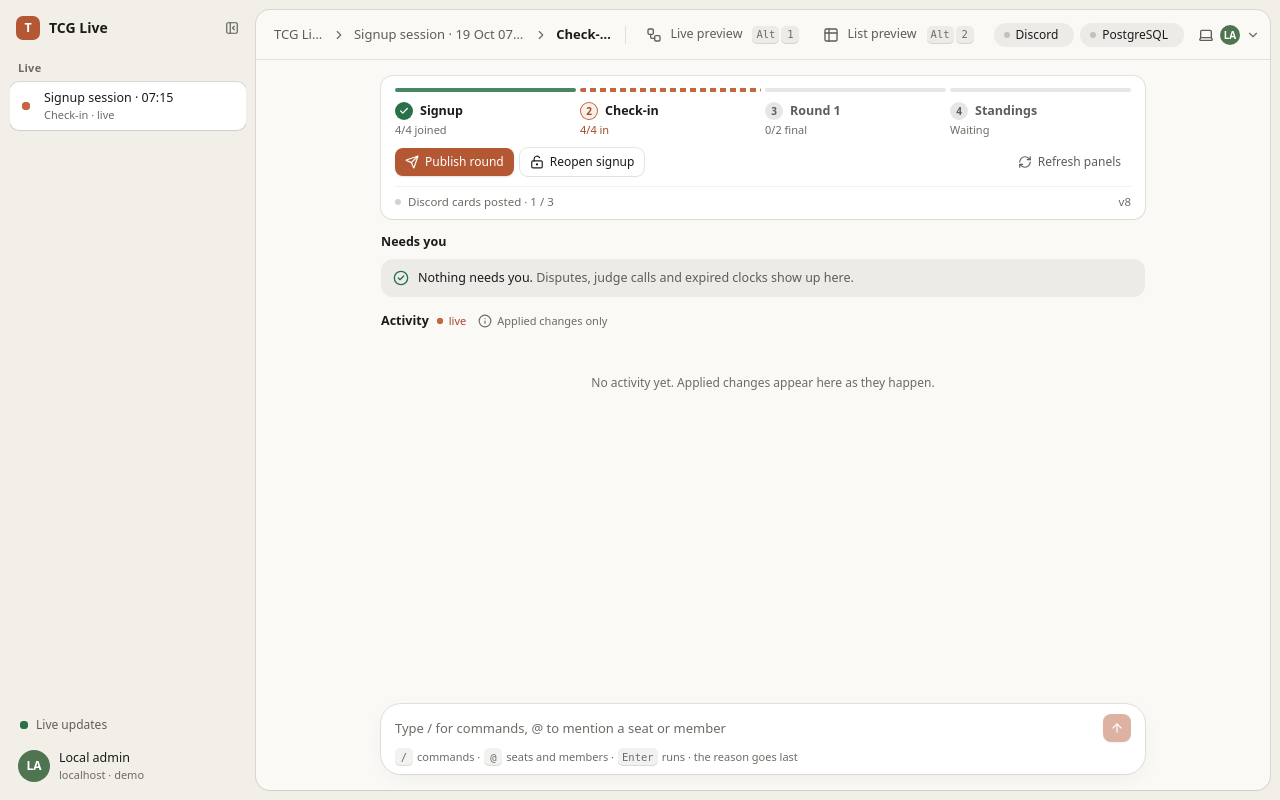
Scenario: stage stepper actions row › says the Discord display is pending and shows the room warning
Click the button "Publish round" at point(454, 162), box [395,148,514,176]
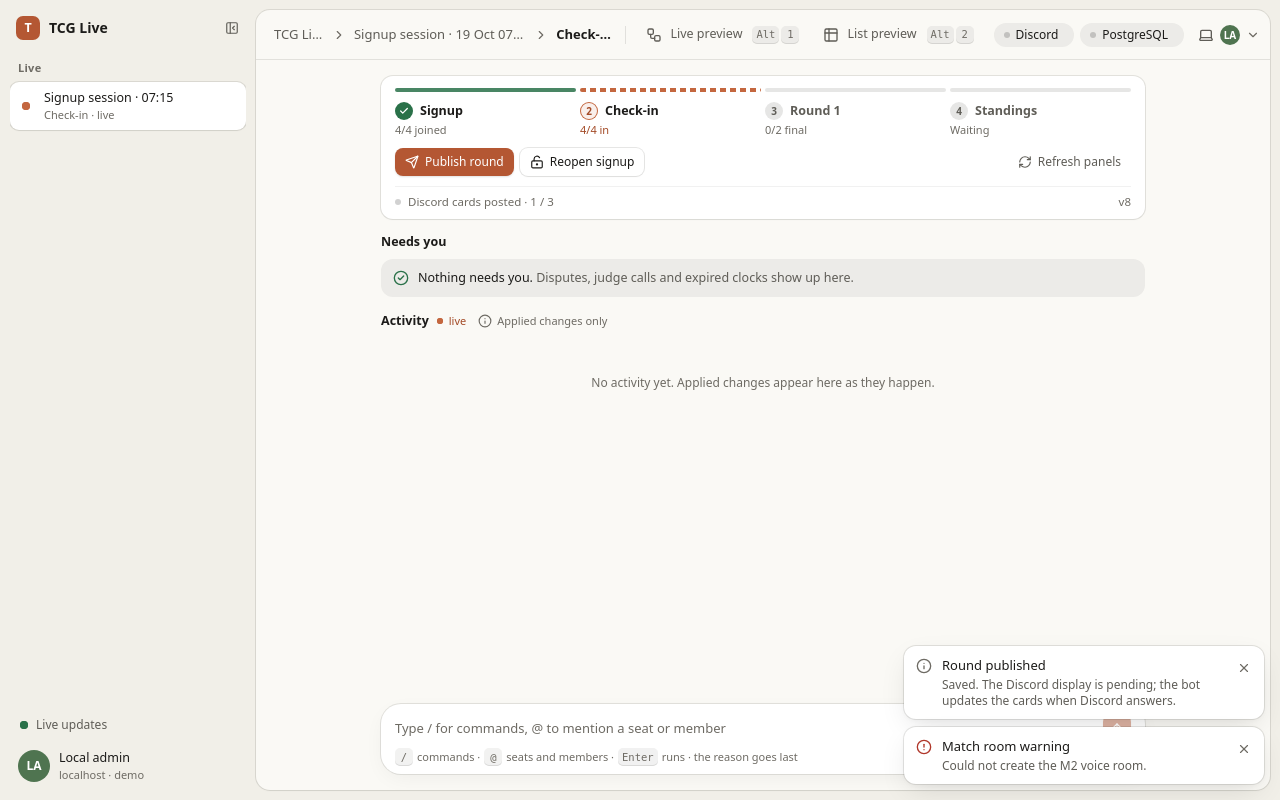
Expected: the element named "Notifications" shows "The Discord display is pending", [942,676,1200,709]
Expected: the element named "Notifications" shows "Match room warning", [942,737,1070,755]
Expected: the element named "Notifications" shows "Could not create the M2 voice room.", [942,757,1146,774]
